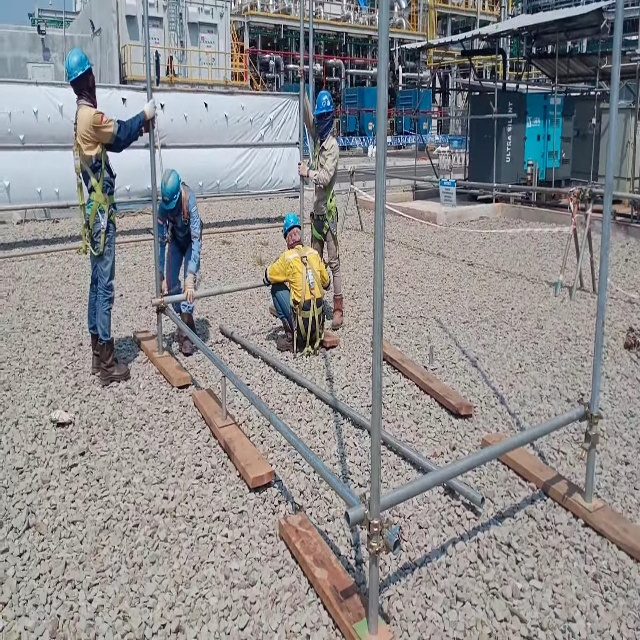Arnes_seguridad: (71, 100, 116, 258), (286, 237, 329, 357), (310, 137, 340, 246)
